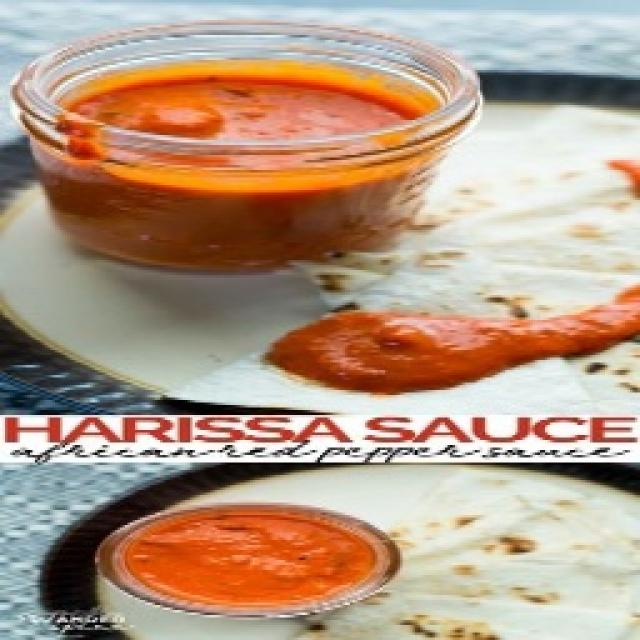Harissa: (12, 15, 480, 278), (260, 280, 638, 392), (108, 505, 400, 620)
